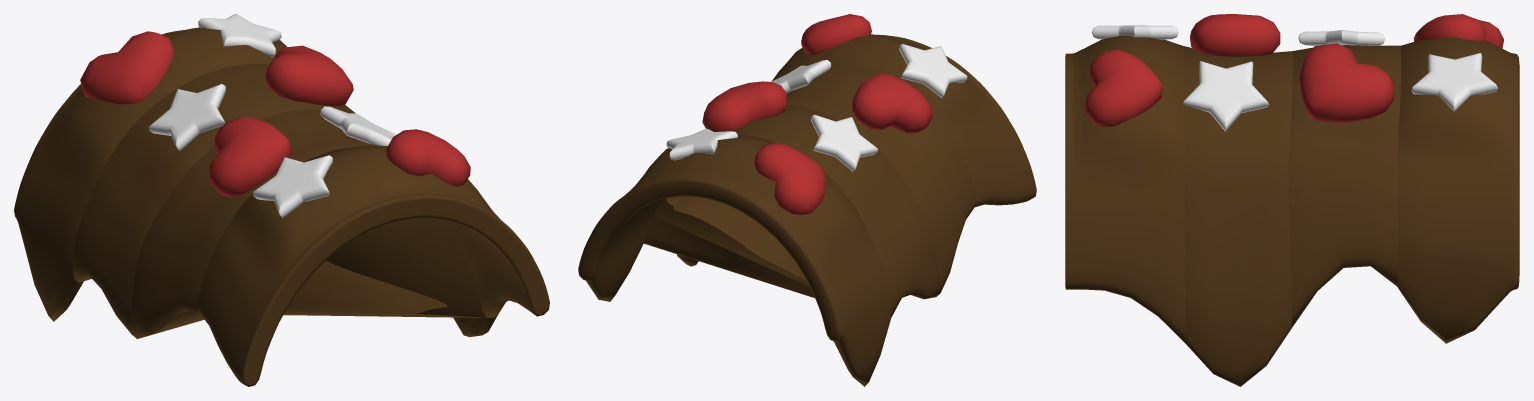
The model's file is choco.fbx.
3 views of the same model, side by side, from view 1: azimuth 30°, elevation 25°; view 2: azimuth 150°, elevation 25°; view 3: azimuth 270°, elevation 25° (orthographic). The views are drawn at different scales.
Parts seen in each view (by area): view 1: Piece.012, Piece.011, Piece.006, Piece.007, Love.008, Love.001, Love.006, Love.007, Cylinder.013, Cylinder.015, Cylinder.012, Cylinder.014; view 2: Piece.006, Piece.007, Piece.012, Piece.011, Love.008, Love.001, Love.006, Cylinder.013, Cylinder.015, Love.007, Cylinder.012, Cylinder.014; view 3: Piece.006, Piece.011, Piece.012, Piece.007, Love.006, Love.007, Cylinder.014, Love.008, Cylinder.012, Love.001, Cylinder.013, Cylinder.015.
Part boxes in pixels (x1,y1,x2,y2): Piece.012: (197,145,549,386); Piece.011: (130,109,498,338); Piece.006: (14,27,287,321); Piece.007: (72,63,355,337); Love.008: (209,116,291,196); Love.001: (80,31,173,104); Love.006: (265,45,353,106); Love.007: (386,129,470,186); Cylinder.013: (149,84,226,150); Cylinder.015: (253,155,332,218); Cylinder.012: (198,14,281,57); Cylinder.014: (320,106,395,145); Piece.006: (578,134,892,386); Piece.007: (666,105,940,317); Piece.012: (772,34,1036,207); Piece.011: (677,68,976,292); Love.008: (852,73,932,133); Love.001: (754,143,826,214); Love.006: (702,81,787,131); Cylinder.013: (811,114,877,171); Cylinder.015: (899,44,967,97); Love.007: (801,14,871,55); Cylinder.012: (666,128,737,160); Cylinder.014: (771,60,831,93); Piece.006: (1397,37,1519,343); Piece.011: (1183,46,1292,386); Piece.012: (1065,35,1185,343); Piece.007: (1288,45,1400,326); Love.006: (1299,43,1394,123); Love.007: (1085,49,1162,126); Cylinder.014: (1182,61,1269,131); Love.008: (1190,14,1280,56); Cylinder.012: (1411,53,1497,111); Love.001: (1413,14,1503,48); Cylinder.013: (1298,30,1384,46); Cylinder.015: (1092,25,1178,39).
Bounding box in the file's own units: 1.64 × 1.34 × 2.
